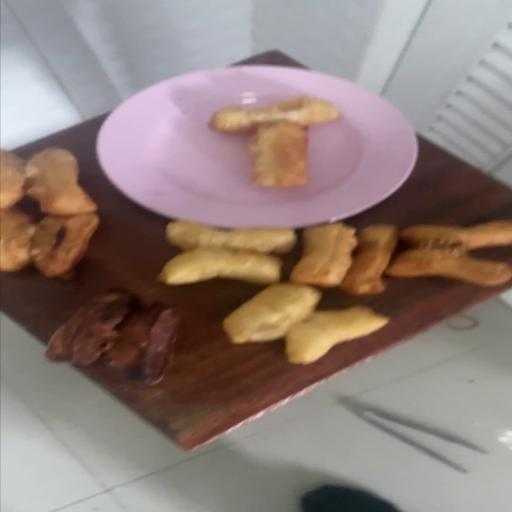street_burnt_defect: (44, 293, 176, 384), (2, 212, 99, 278)
